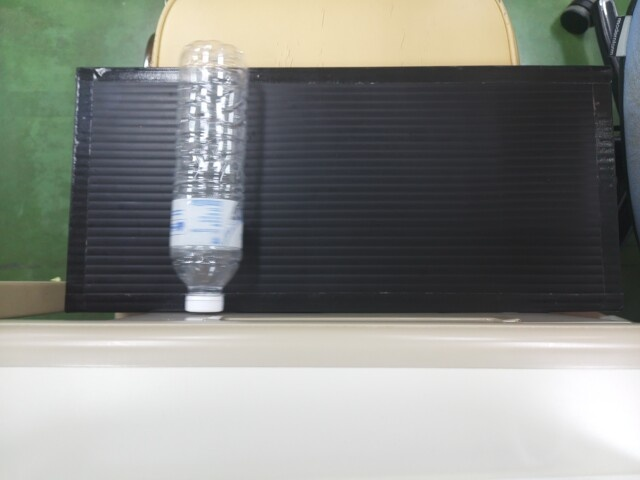plastic_bottle: (174, 32, 247, 304)
